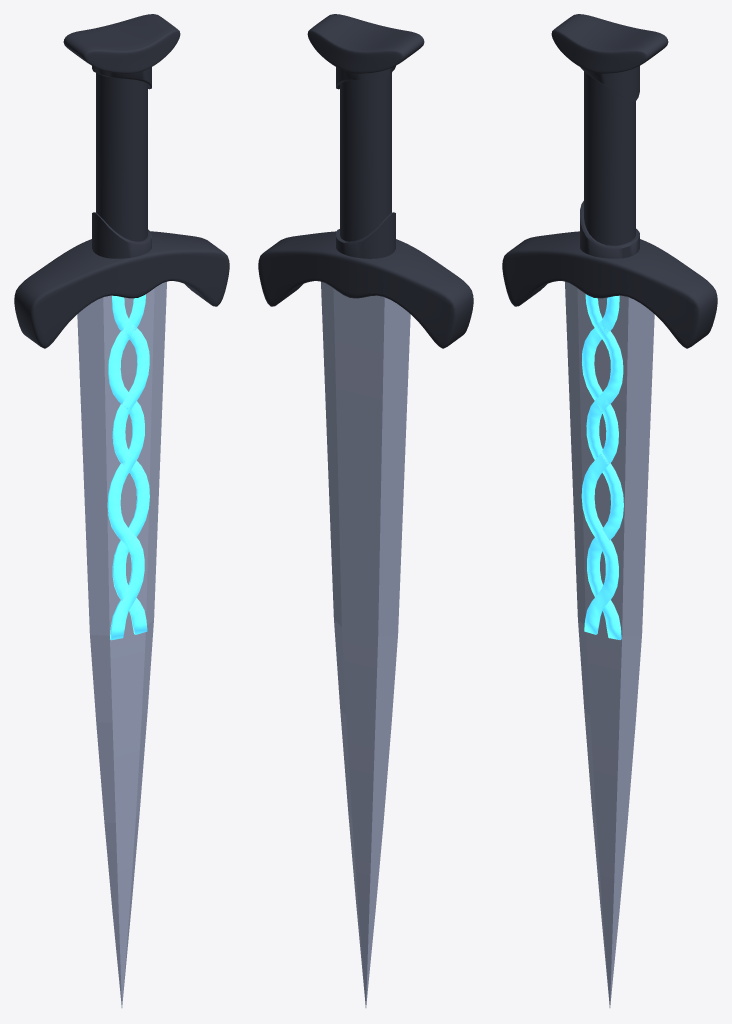
Rendered from sword.fbx.
The picture shows the model from 3 angles, left to right: view 1: azimuth 30°, elevation 25°; view 2: azimuth 150°, elevation 25°; view 3: azimuth 330°, elevation 25°; orthographic projection.
Visible parts, largest first — view 1: Sword Blade Simple, Sword, Helix; view 2: Sword; view 3: Sword Blade Simple, Sword, Helix.
Part boxes in pixels (x1=…): Sword Blade Simple: x1=77, y1=281, x2=166, y2=1007; Sword: x1=14, y1=14, x2=229, y2=928; Helix: x1=107, y1=294, x2=149, y2=640; Sword: x1=258, y1=14, x2=473, y2=1007; Sword Blade Simple: x1=565, y1=281, x2=654, y2=1007; Sword: x1=502, y1=14, x2=717, y2=912; Helix: x1=581, y1=294, x2=623, y2=639.
Size of the model in its own units: 152 by 717 by 46.29.
